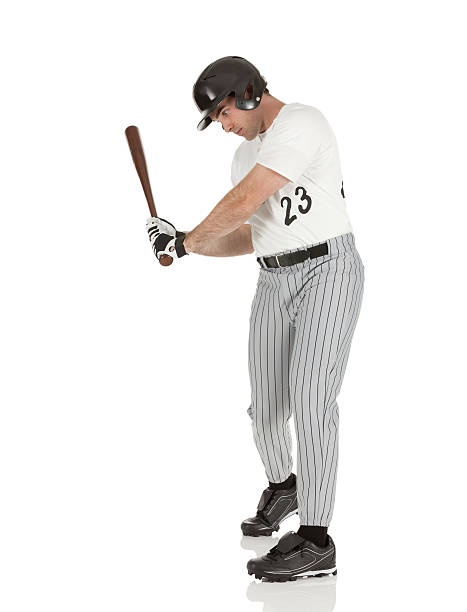bita: (109, 109, 190, 262)
